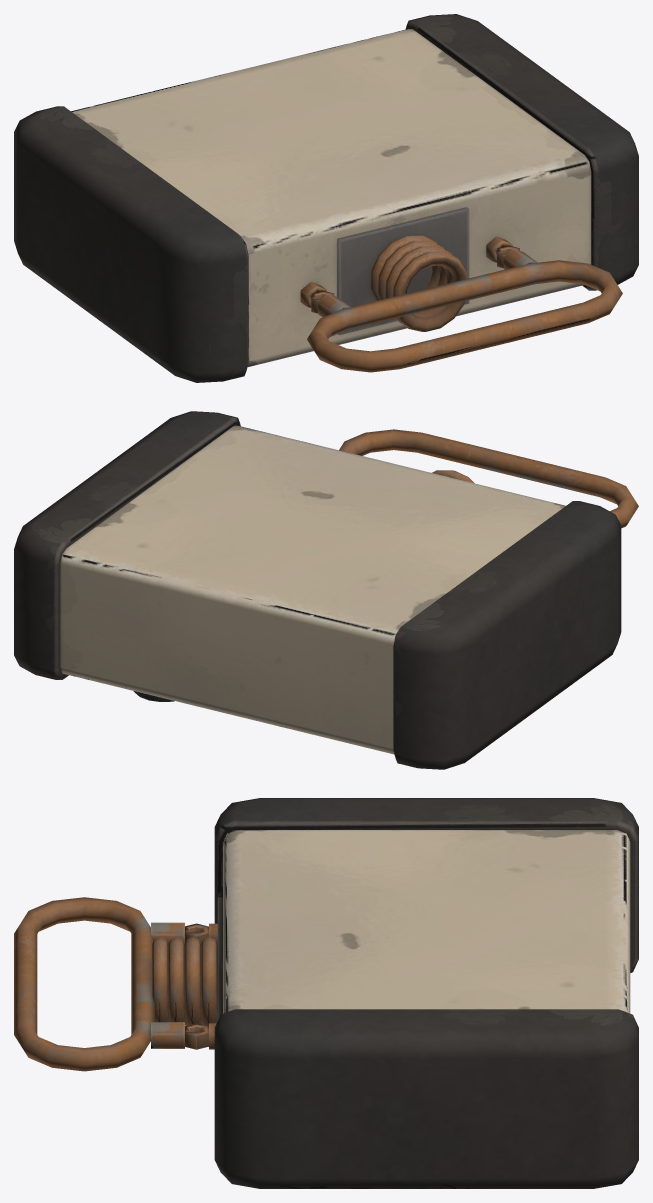
The model's file is emf-scanner.glb.
The picture shows the model from 3 angles, top to bottom: view 1: azimuth 30°, elevation 25°; view 2: azimuth 150°, elevation 25°; view 3: azimuth 270°, elevation 25°; orthographic projection. The views are drawn at different scales.
Visible parts, largest first — view 1: scanner(Clone); view 2: scanner(Clone); view 3: scanner(Clone).
Part boxes in pixels (x1,y1,x2,y2): scanner(Clone): (14,14,638,382); scanner(Clone): (14,411,638,769); scanner(Clone): (14,798,638,1188).
Bounding box in the file's own units: 0.6938 × 0.2414 × 0.7349.
Materials: 2 (1 with a texture image).
